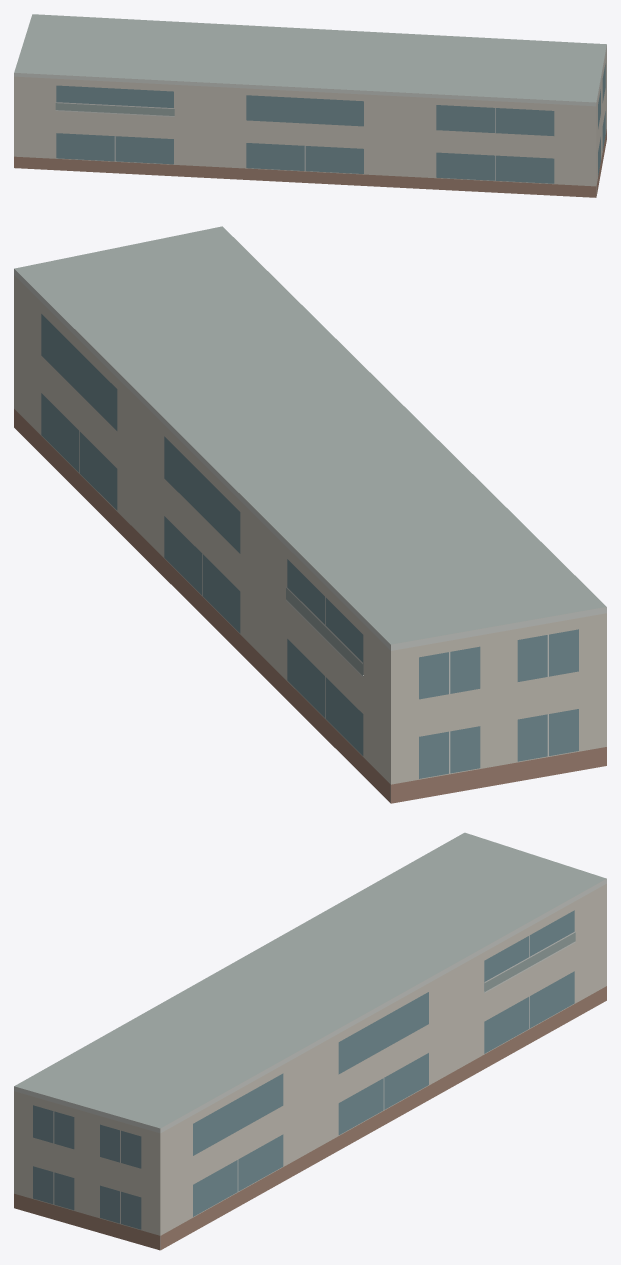
The model's file is survey-upis-33003699.glb.
3 renders of one model, top to bottom at view 1: azimuth 30°, elevation 25°; view 2: azimuth 150°, elevation 25°; view 3: azimuth 270°, elevation 25°, orthographic. The views are drawn at different scales.
Visible parts, largest first — view 1: survey-upis-33003699.tmp; view 2: survey-upis-33003699.tmp; view 3: survey-upis-33003699.tmp.
Part boxes in pixels (x1,y1,x2,y2): survey-upis-33003699.tmp: [14, 14, 606, 197]; survey-upis-33003699.tmp: [14, 226, 606, 803]; survey-upis-33003699.tmp: [14, 832, 606, 1250].
Bounding box in the file's own units: 31.77 × 6.1 × 26.89.
